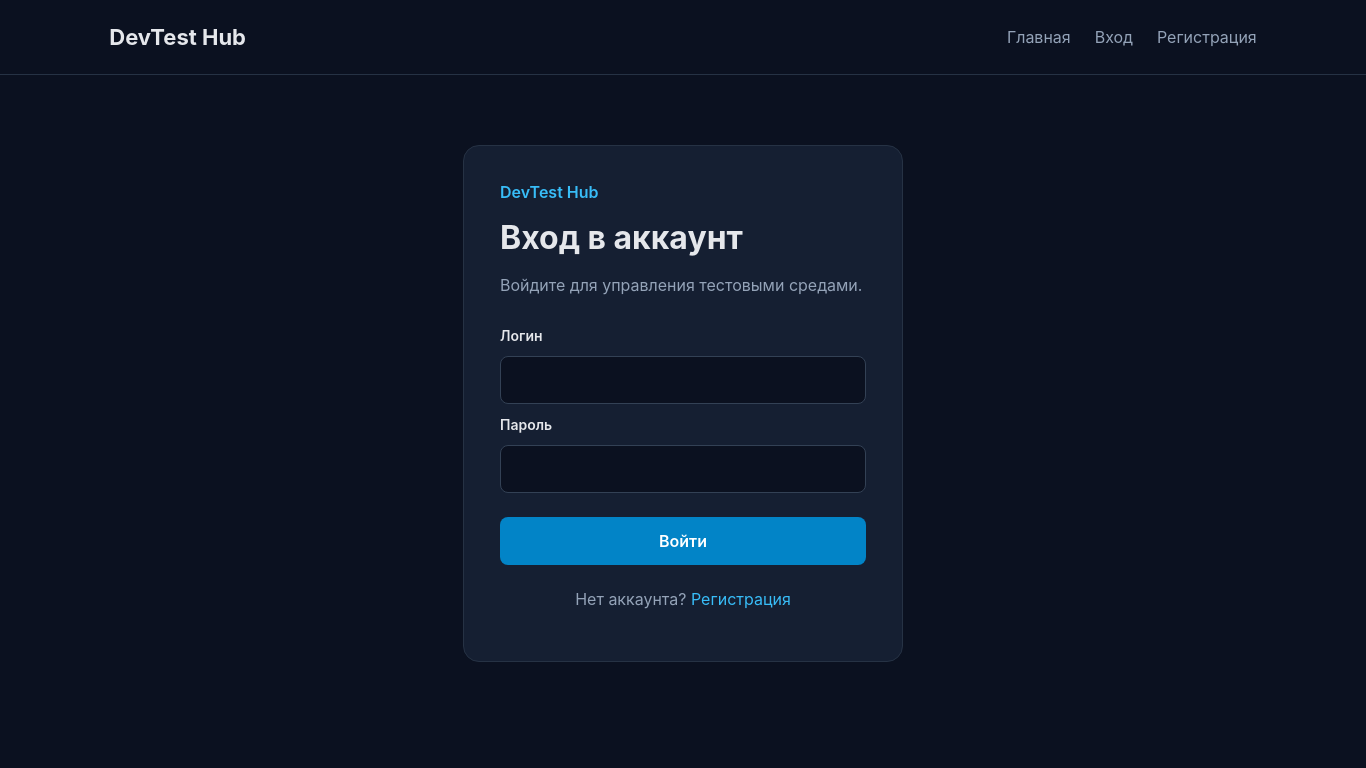
Scenario: Авторизация DevTest Hub › отклоняет неправильный пароль
This screenshot has width=1366, height=768.
Step 1. Type "frontendtester" into the field labelled "Логин" → (683, 380), box [500,356,866,404]
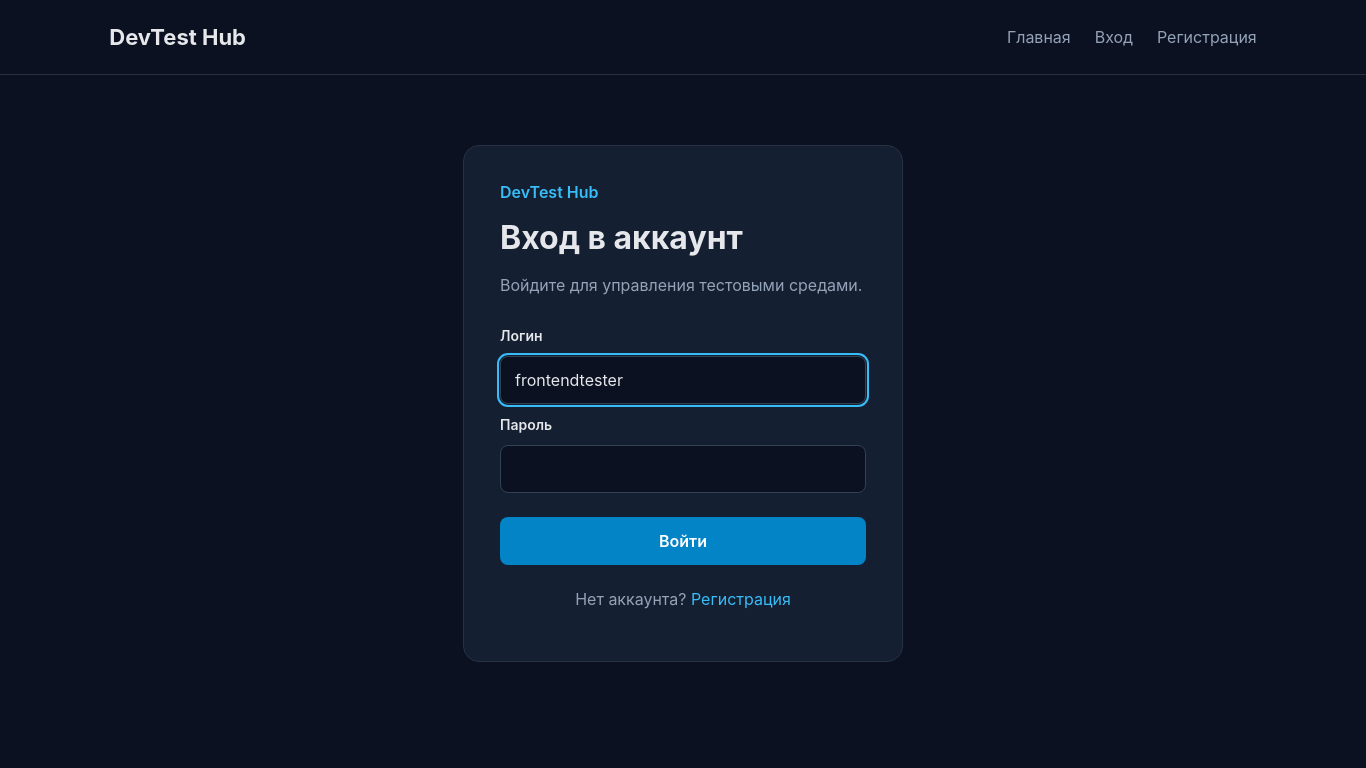
Step 2. Type "wrong-password" into the password field labelled "Пароль" → (683, 469), box [500,445,866,493]
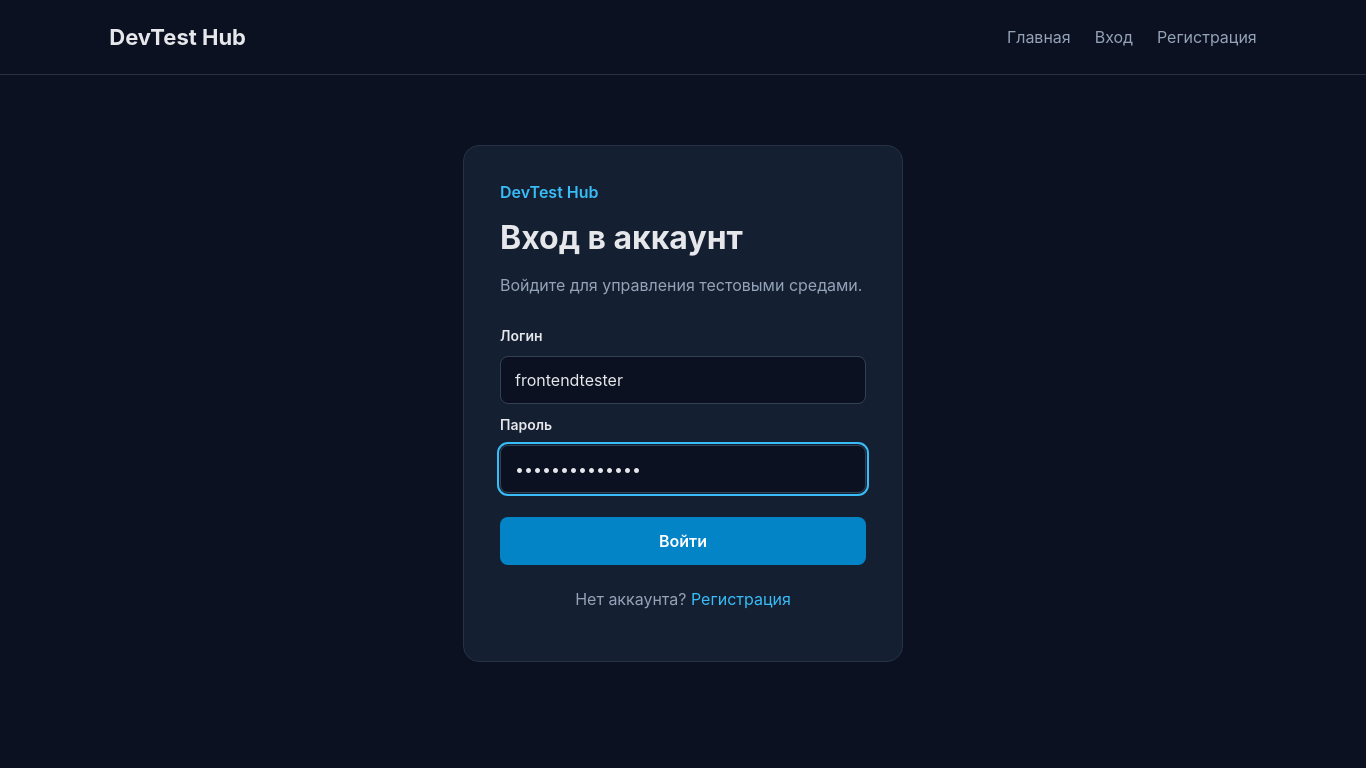
Step 3. Click the button "Войти" → (683, 541), box [500,517,866,565]
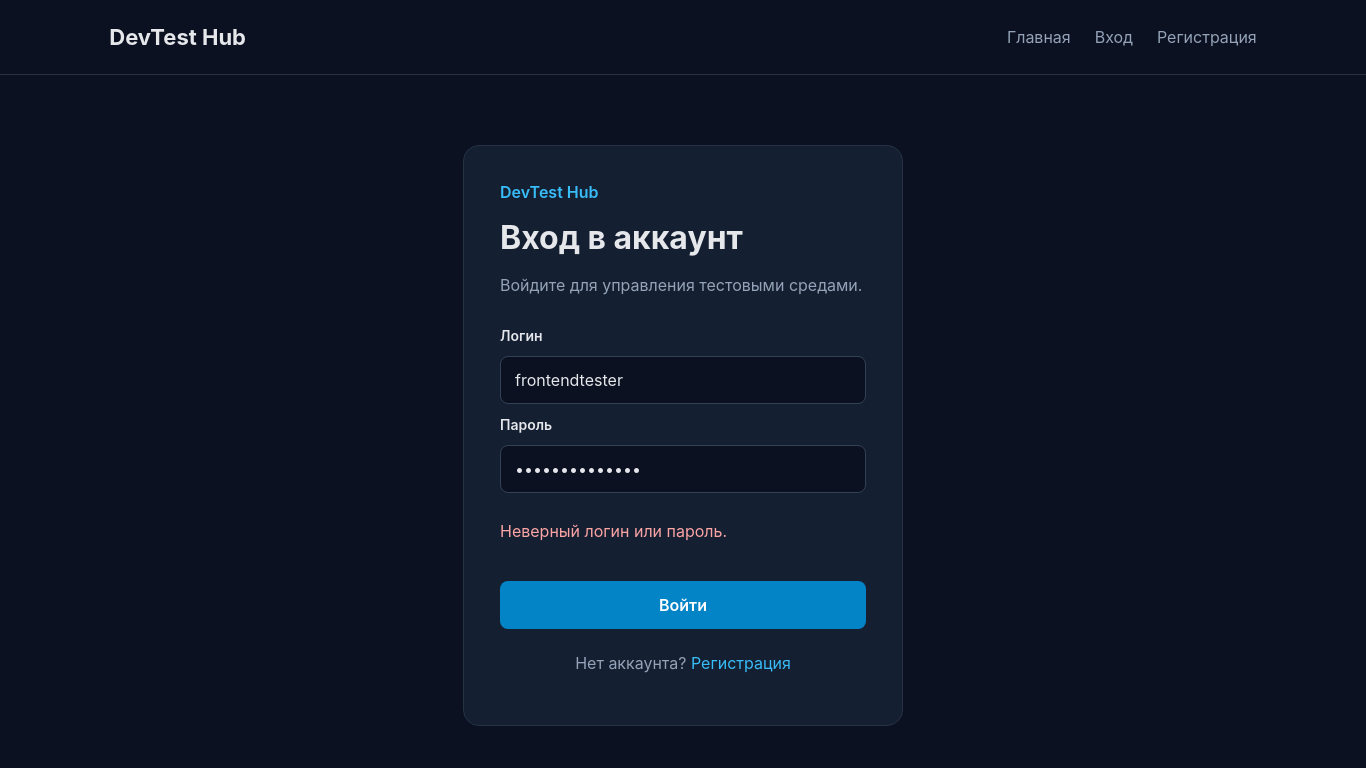
Result: the message reads "Неверный логин или пароль." at [500,521,727,541]
